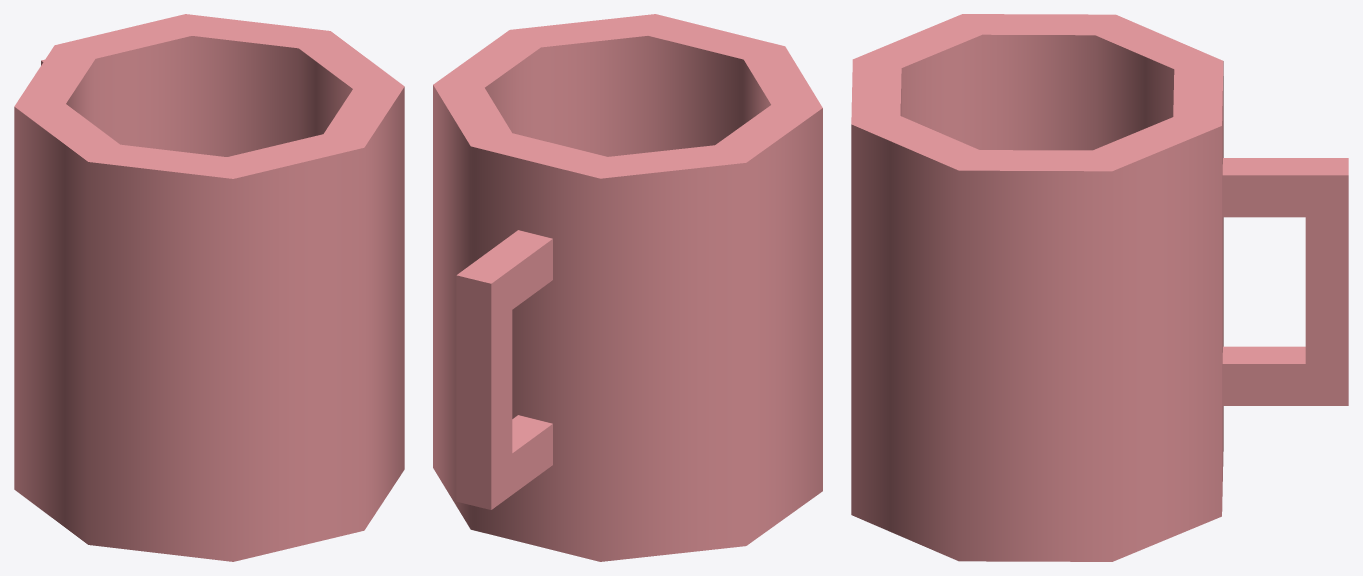
The model's file is cup_small.fbx.
The picture shows the model from 3 angles, left to right: view 1: azimuth 30°, elevation 25°; view 2: azimuth 150°, elevation 25°; view 3: azimuth 270°, elevation 25°; orthographic projection. The views are drawn at different scales.
Visible parts, largest first — view 1: Cylinder; view 2: Cylinder; view 3: Cylinder.
Boxes of the visible parts, x1=… form: Cylinder: x1=14, y1=14, x2=404, y2=561; Cylinder: x1=433, y1=14, x2=822, y2=561; Cylinder: x1=851, y1=14, x2=1348, y2=561.
Bounding box in the file's own units: 15.34 × 11.48 × 13.3.
